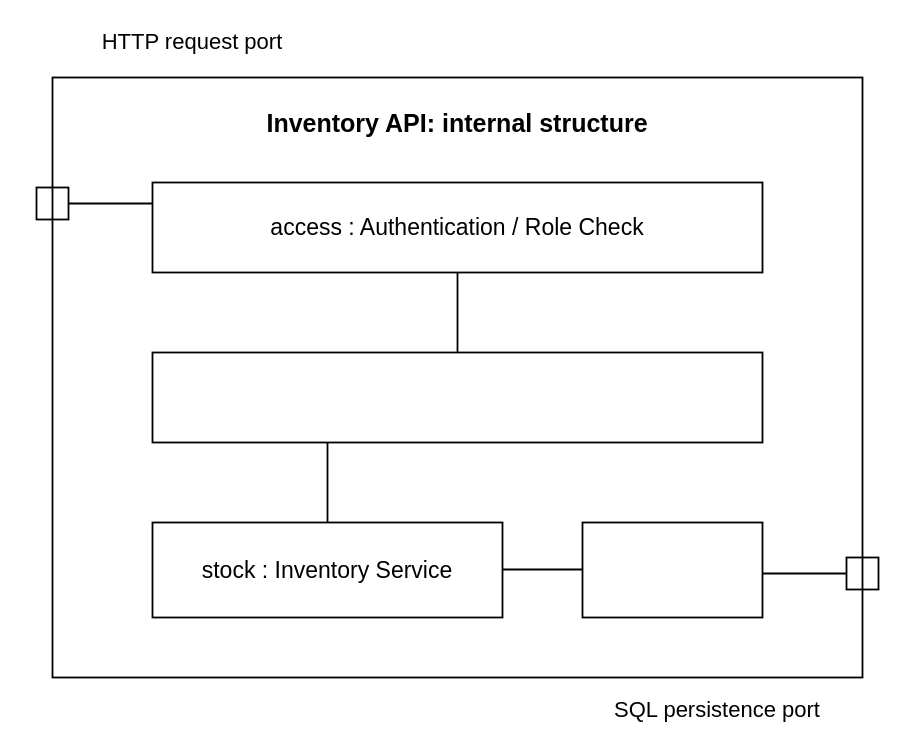
This 904x749 diagram has some shape labels left out. Here are the shapes that lost their labels. From the top down, the centre of each, then its label:
At point (457, 397): "handler : Inventory Route".
At point (672, 569): "data : Models".
